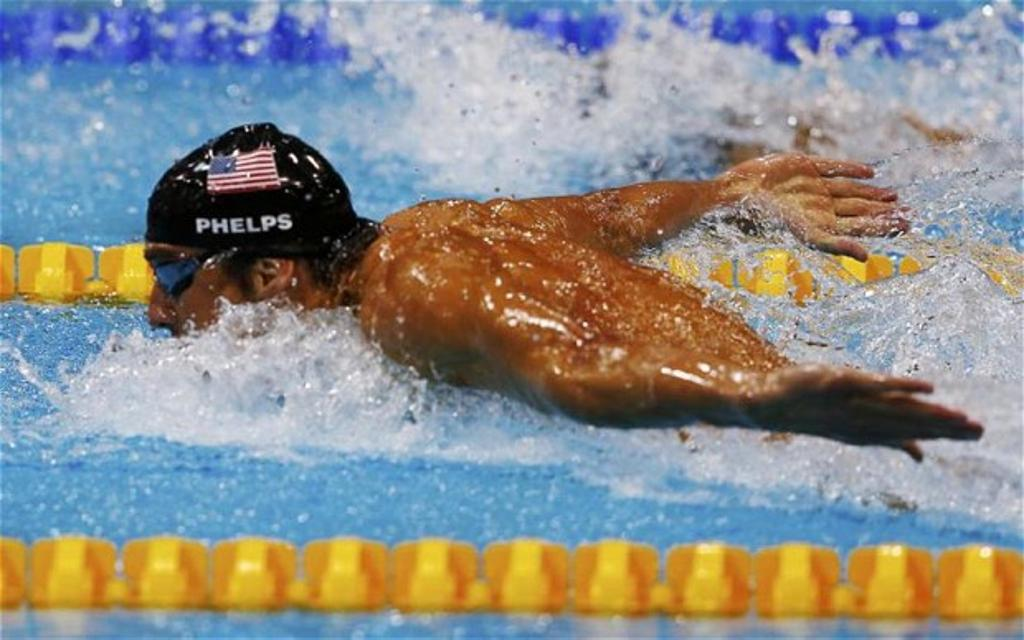face: (133, 221, 261, 355)
